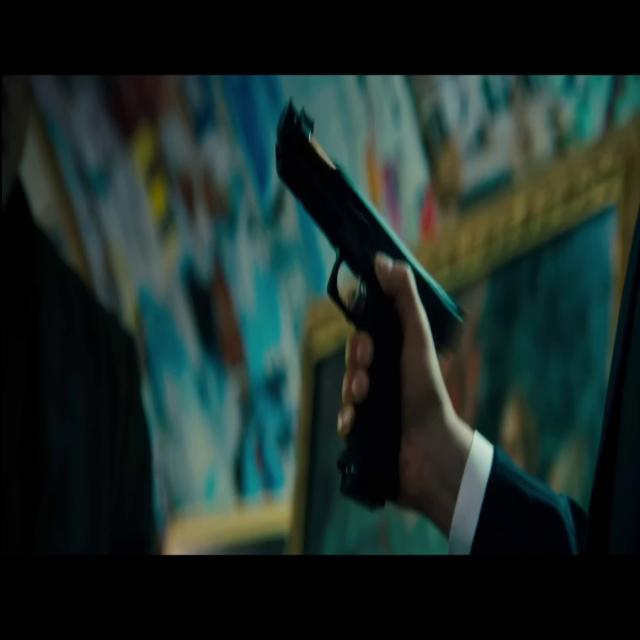weapons: (260, 88, 473, 518)
